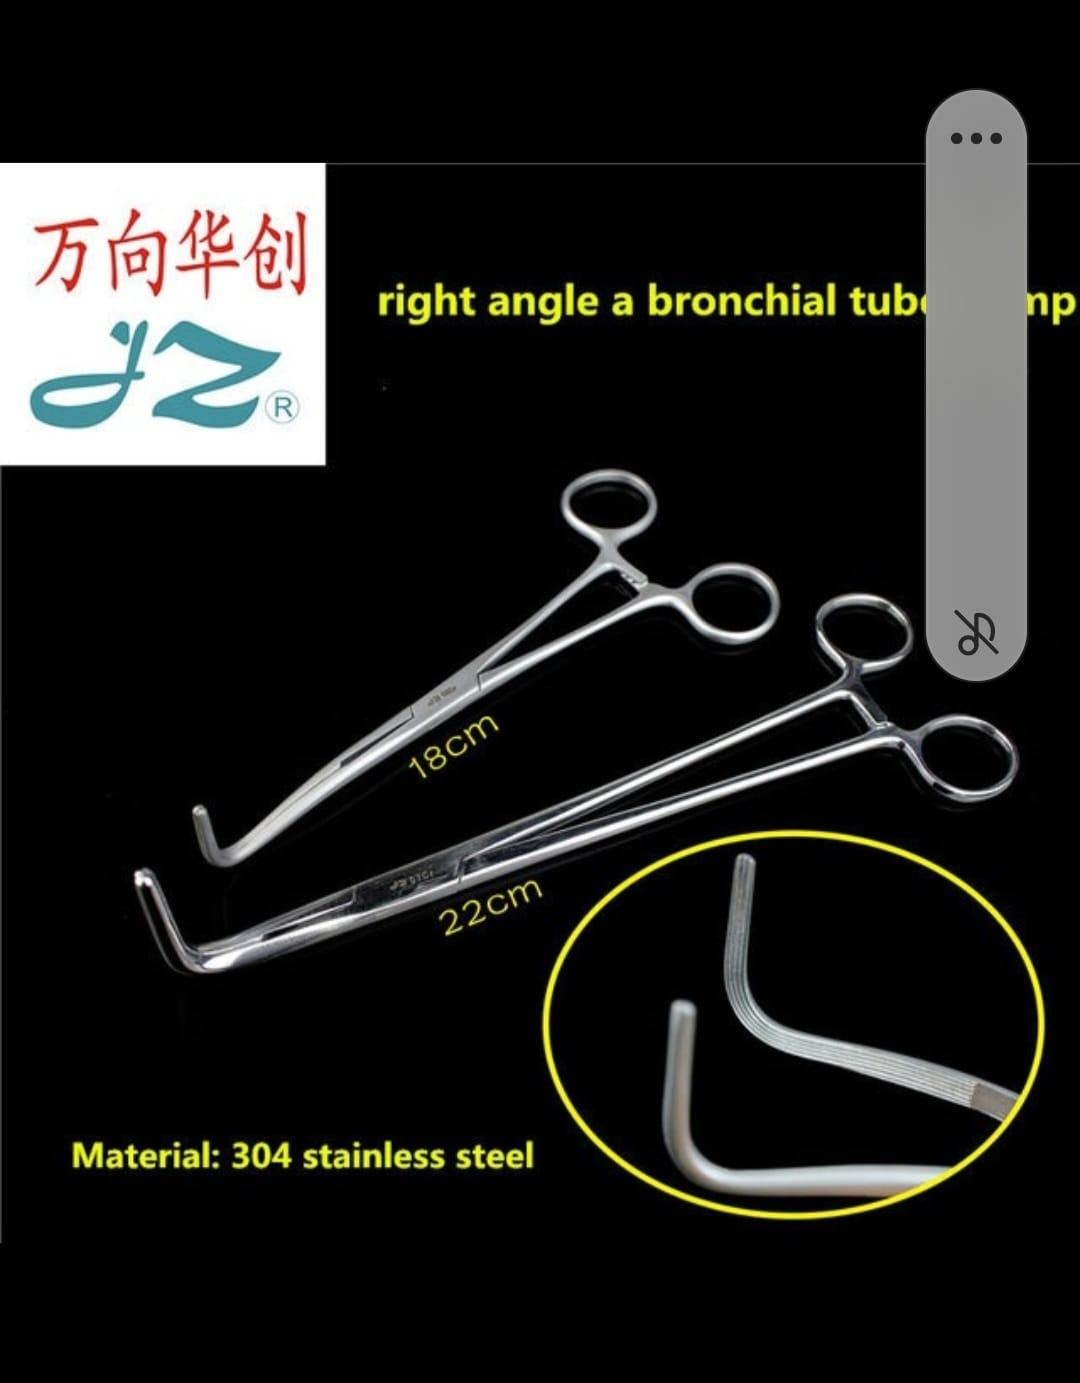Rectangle Cholecystectomy Forceps: (118, 590, 1020, 996), (186, 460, 786, 880)
